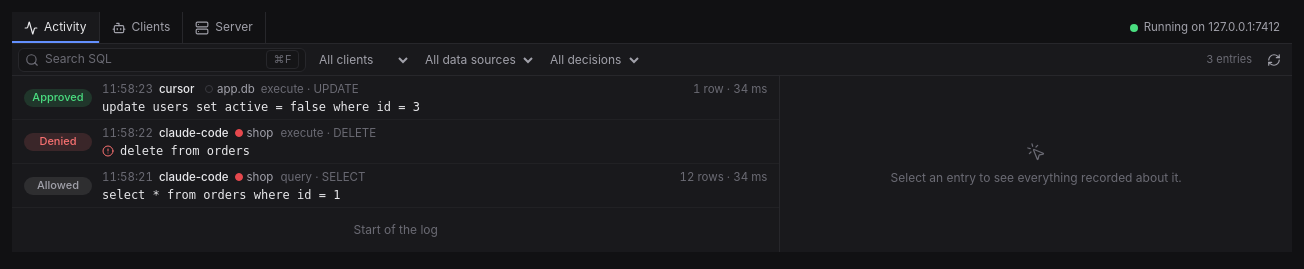
it: Activity tab › drops a page asked for under filters since changed
This screenshot has width=1304, height=269.
Select "Denied" in the dropdown named "Decision": (592,60) [541,48,643,72]
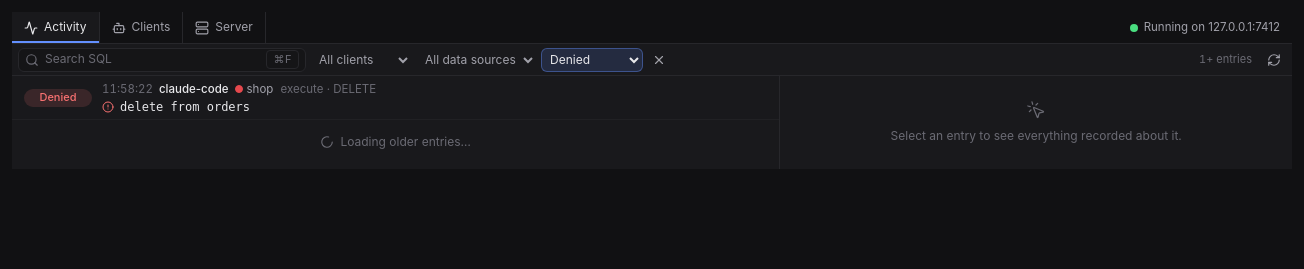
Select "Approved" in the dropdown named "Decision": (592,60) [541,48,643,72]
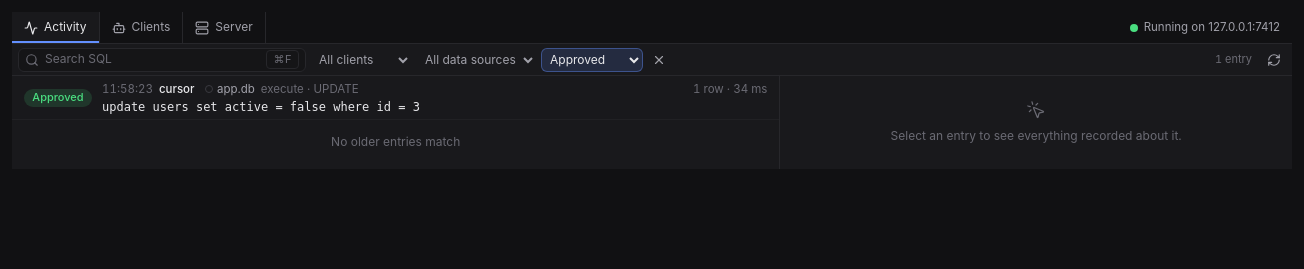
Now the text "1 entry" is shown, box [1215,52,1252,66]
